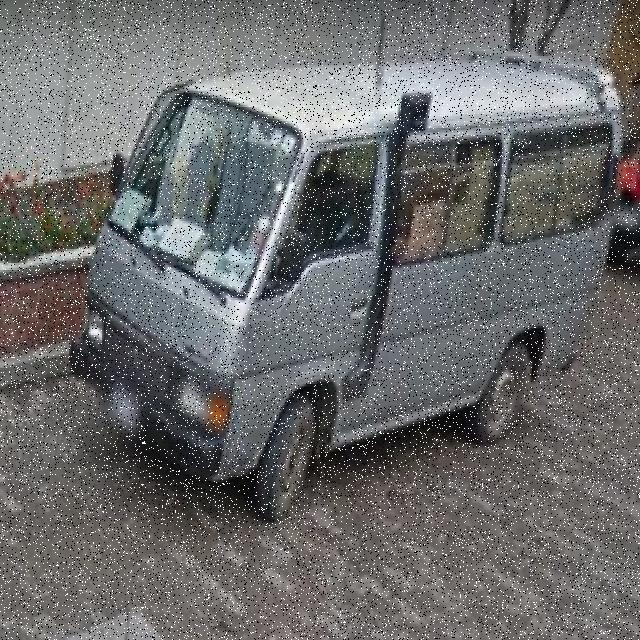cars: (69, 63, 624, 514)
